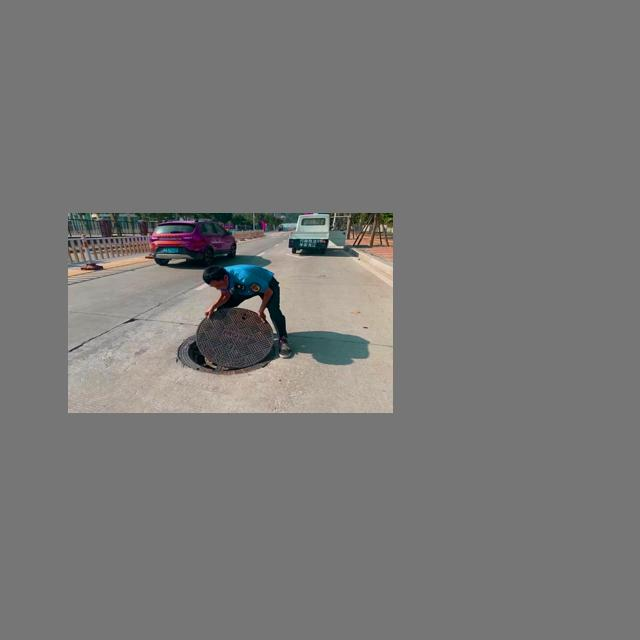uncovered: (173, 305, 278, 376)
